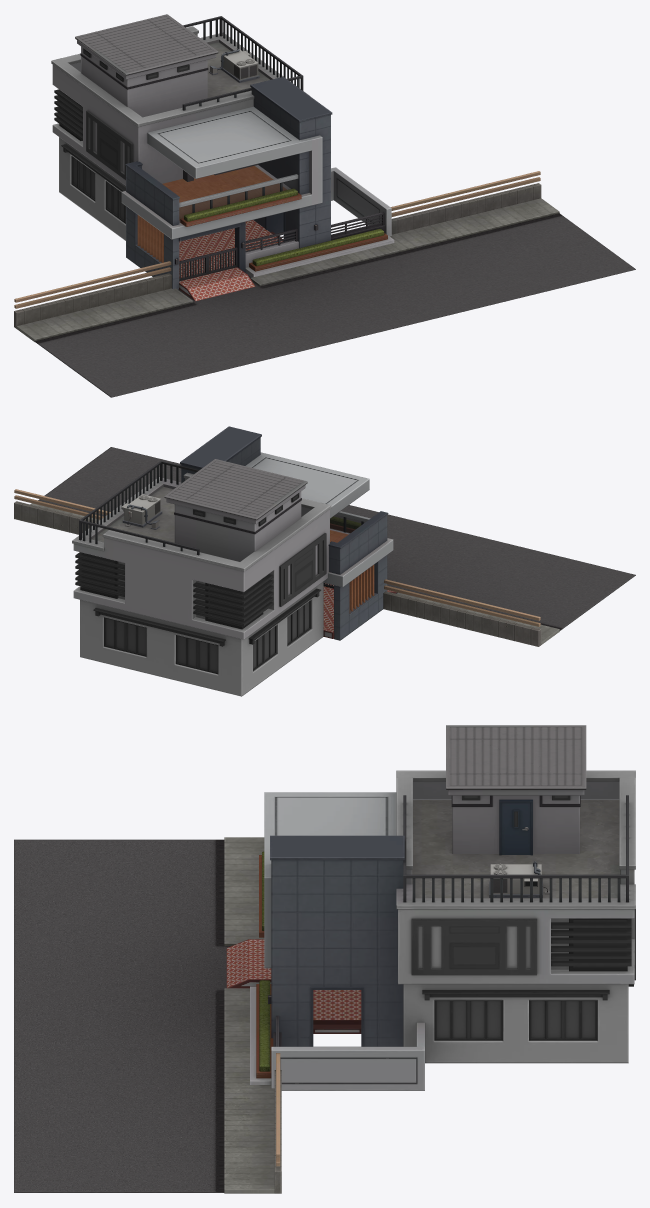
The picture shows the model from 3 angles, top to bottom: view 1: azimuth 30°, elevation 25°; view 2: azimuth 150°, elevation 25°; view 3: azimuth 270°, elevation 25°; orthographic projection. The views are drawn at different scales.
Visible parts, largest first — view 1: RenderAssets, ModernHouse02, ModernHouse01, Glass; view 2: ModernHouse01, RenderAssets, ModernHouse02, Glass; view 3: RenderAssets, ModernHouse01, ModernHouse02, Glass.
Part boxes in pixels (left/top/right/bottom): RenderAssets: left=14, top=171, right=635, bottom=397; ModernHouse02: left=121, top=77, right=394, bottom=301; ModernHouse01: left=51, top=14, right=309, bottom=240; Glass: left=60, top=50, right=297, bottom=222; ModernHouse01: left=72, top=459, right=331, bottom=696; RenderAssets: left=14, top=447, right=635, bottom=646; ModernHouse02: left=180, top=426, right=396, bottom=640; Glass: left=81, top=495, right=364, bottom=672; RenderAssets: left=14, top=837, right=281, bottom=1193; ModernHouse01: left=396, top=725, right=635, bottom=1063; ModernHouse02: left=226, top=792, right=424, bottom=1090; Glass: left=436, top=795, right=626, bottom=1038.
Size of the model in its own units: 30 by 9.15 by 22.36.
4 materials, 4 textured.
